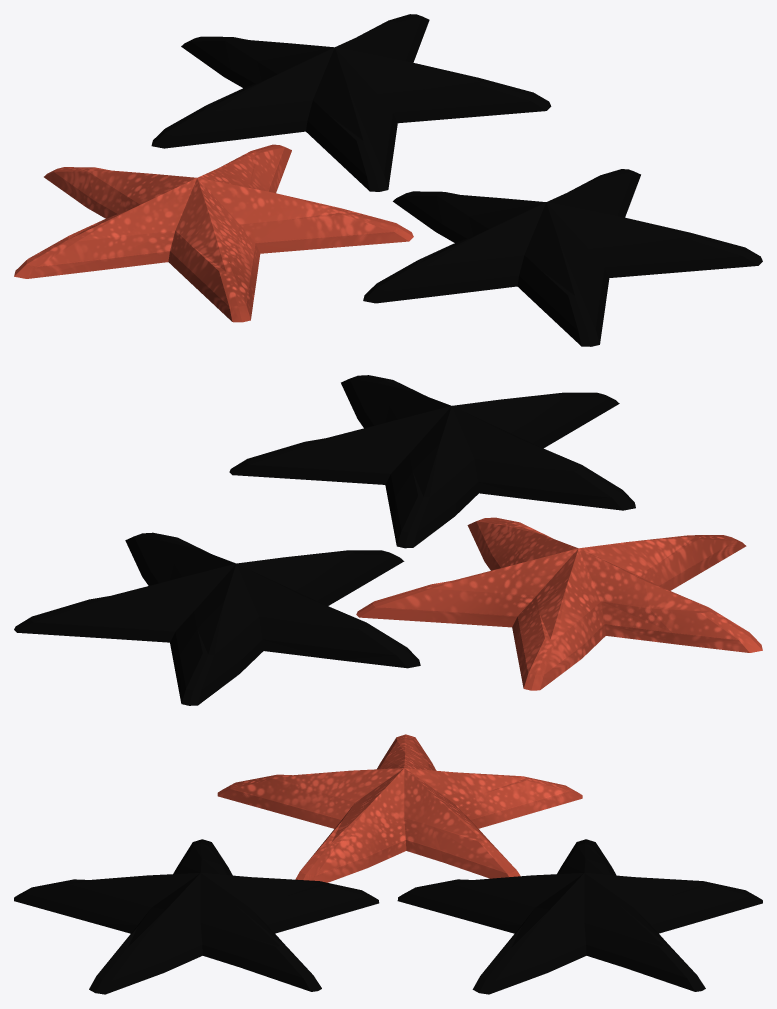
Rendered from estrela-do-mar.glb.
3 renders of one model, top to bottom at view 1: azimuth 30°, elevation 25°; view 2: azimuth 150°, elevation 25°; view 3: azimuth 270°, elevation 25°, orthographic. The views are drawn at different scales.
Visible parts, largest first — view 1: Node; view 2: Node; view 3: Node.
Part boxes in pixels (x1,y1,x2,y2): Node: (14,14,762,346); Node: (14,375,762,705); Node: (14,734,762,994).
Size of the model in its own units: 8.37 by 0.7612 by 10.31.
Materials: 3 (1 with a texture image).
